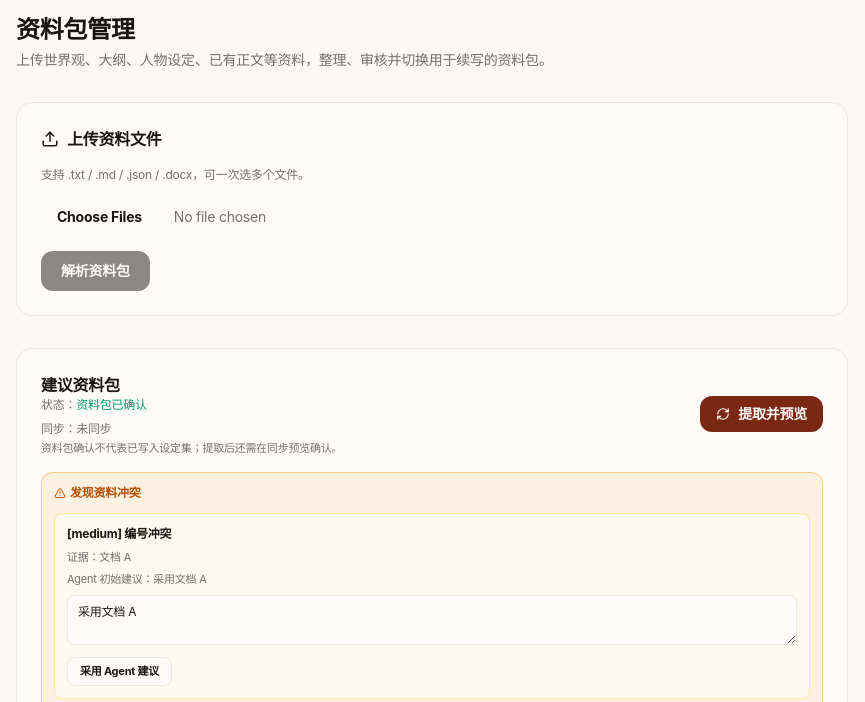
Test: ContinuationPackView A/B late response › approved pack can apply Agent suggestion without editing
Click the button "采用 Agent 建议": (119, 671) [67,657,172,686]
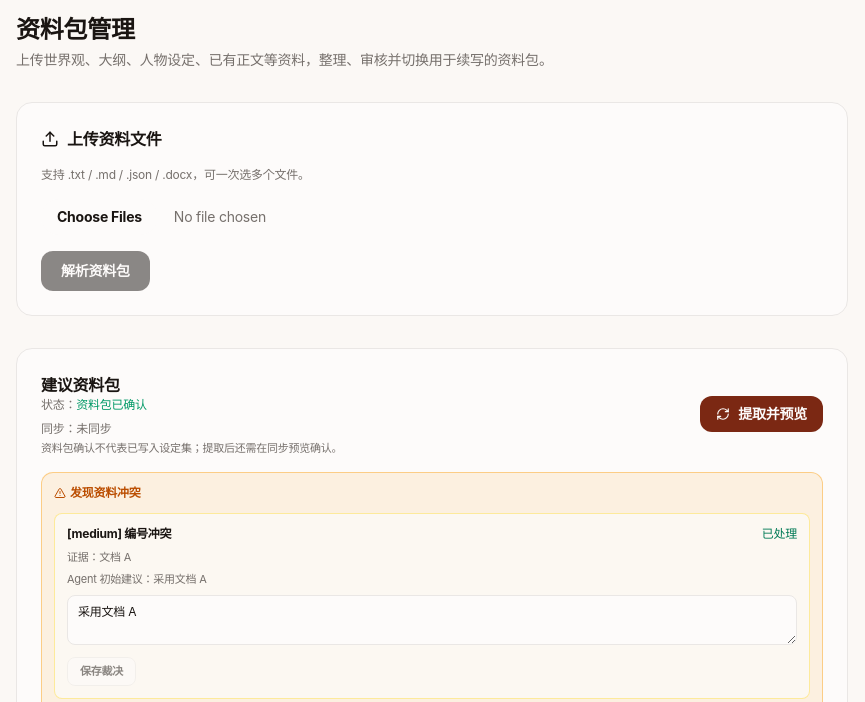
Now the text "已处理" is shown, box [762,526,797,542]
